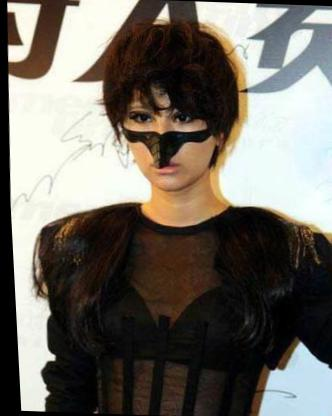WRONG: (120, 103, 212, 192)
